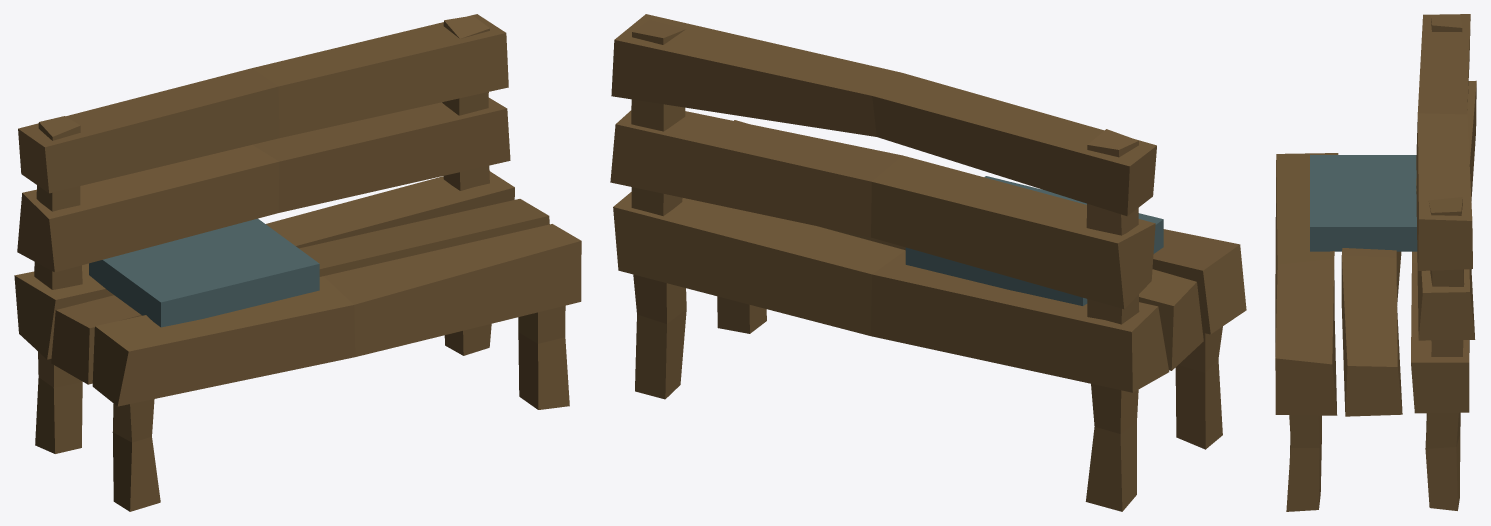
Rendered from home_Settle_bench.glb.
The picture shows the model from 3 angles, left to right: view 1: azimuth 30°, elevation 25°; view 2: azimuth 150°, elevation 25°; view 3: azimuth 270°, elevation 25°; orthographic projection. The views are drawn at different scales.
Parts seen in each view (by area): view 1: home_Settle_bench; view 2: home_Settle_bench; view 3: home_Settle_bench.
Boxes of the visible parts, box(x1,y1,x2,y2) form: home_Settle_bench: box(14, 14, 581, 511); home_Settle_bench: box(610, 14, 1246, 511); home_Settle_bench: box(1275, 14, 1476, 511).
Size of the model in its own units: 1.66 by 1.1 by 0.6624.
